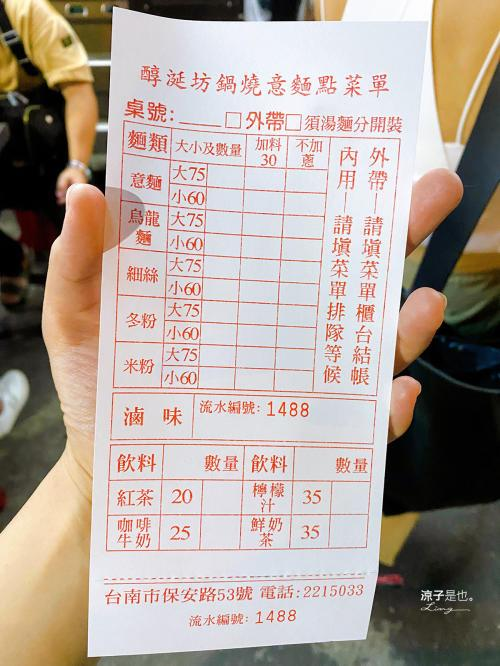paper: (95, 12, 419, 660)
